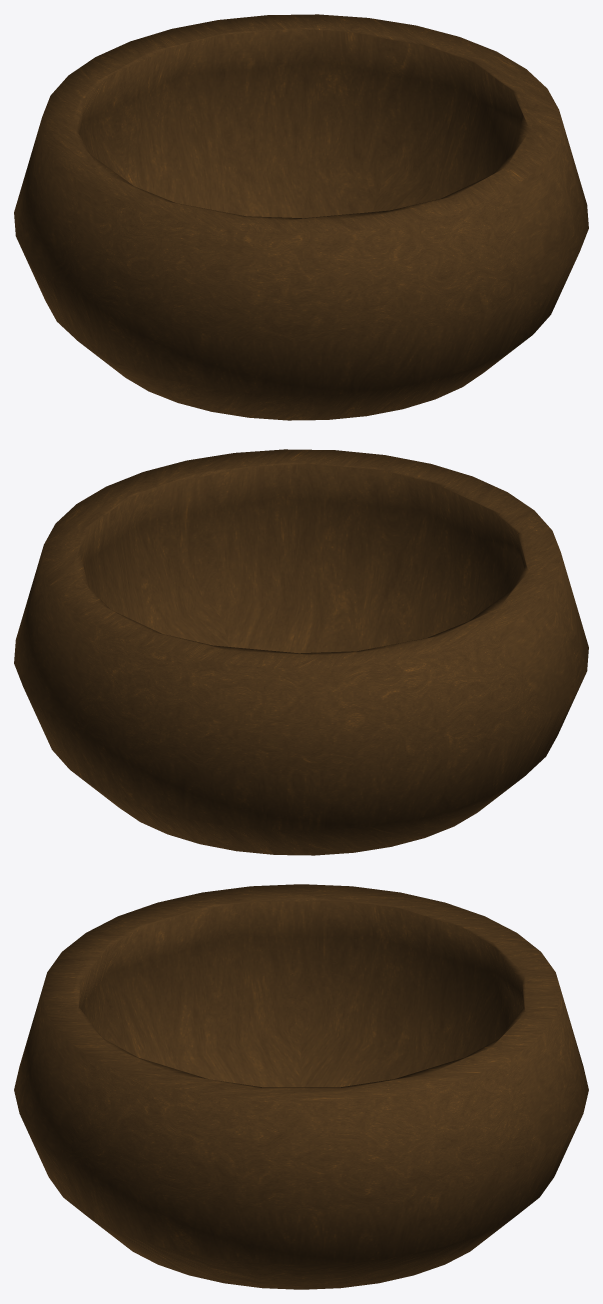
The model's file is finalBowl.fbx.
The picture shows the model from 3 angles, top to bottom: view 1: azimuth 30°, elevation 25°; view 2: azimuth 150°, elevation 25°; view 3: azimuth 270°, elevation 25°; orthographic projection.
Visible parts, largest first — view 1: Cylinder; view 2: Cylinder; view 3: Cylinder.
Part boxes in pixels (x1,y1,x2,y2): Cylinder: (14,14,588,420); Cylinder: (14,449,588,855); Cylinder: (14,884,588,1289).
Bounding box in the file's own units: 22.86 × 10 × 22.86.
